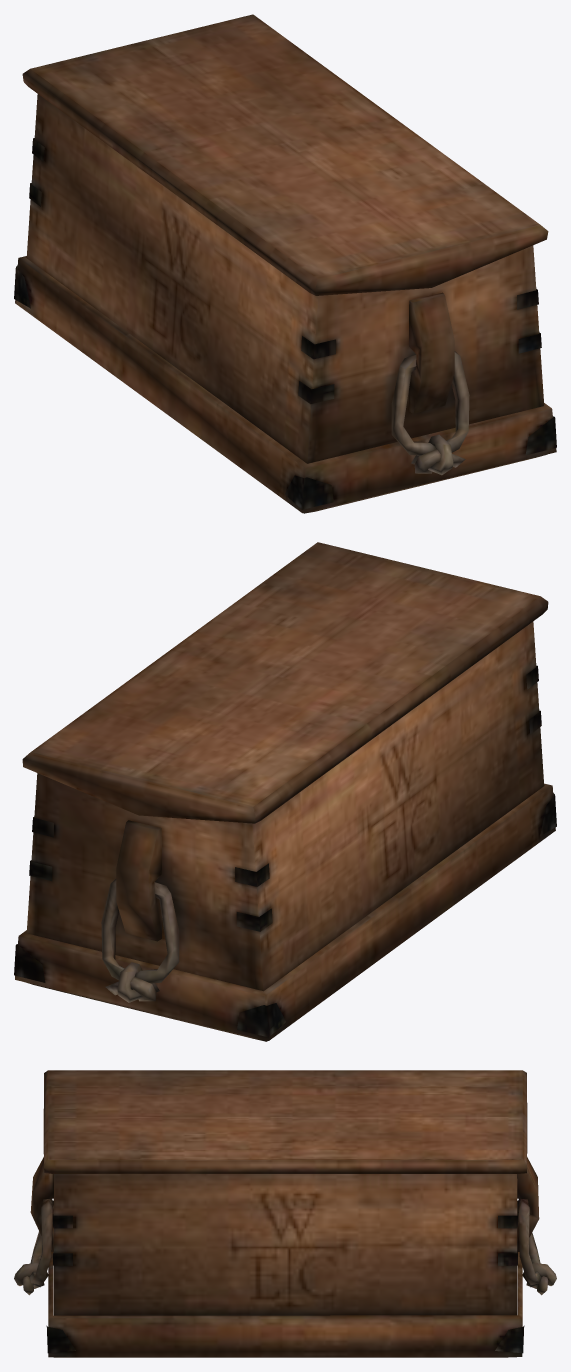
File: crate2.glb
The picture shows the model from 3 angles, top to bottom: view 1: azimuth 30°, elevation 25°; view 2: azimuth 150°, elevation 25°; view 3: azimuth 270°, elevation 25°; orthographic projection. The views are drawn at different scales.
Visible parts, largest first — view 1: lo; view 2: lo; view 3: lo.
Part boxes in pixels (x1,y1,x2,y2): lo: (14, 14, 556, 513); lo: (14, 542, 556, 1041); lo: (14, 1070, 556, 1357).
Bounding box in the file's own units: 0.5228 × 0.46 × 1.17.
1 material, 1 textured.
